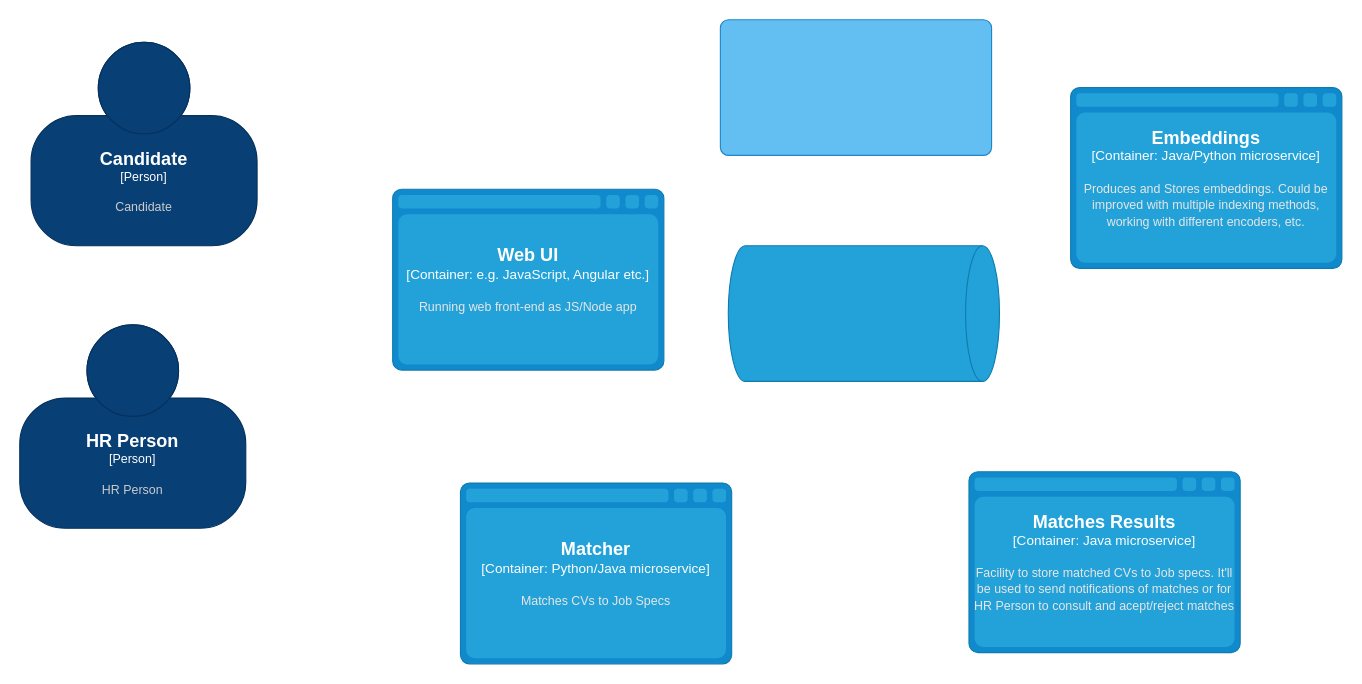
Image size: 1362x684. Some labels were removed from this diagram. Here are the shapes that lost their labels. From the top down, the centre of each, then its label:
At point 855,87: "Anonymiser [Component: Microservice] Anonymises CVs".
At point 863,313: "Events Bus [Container: RabbitMQ] Events based integration".
